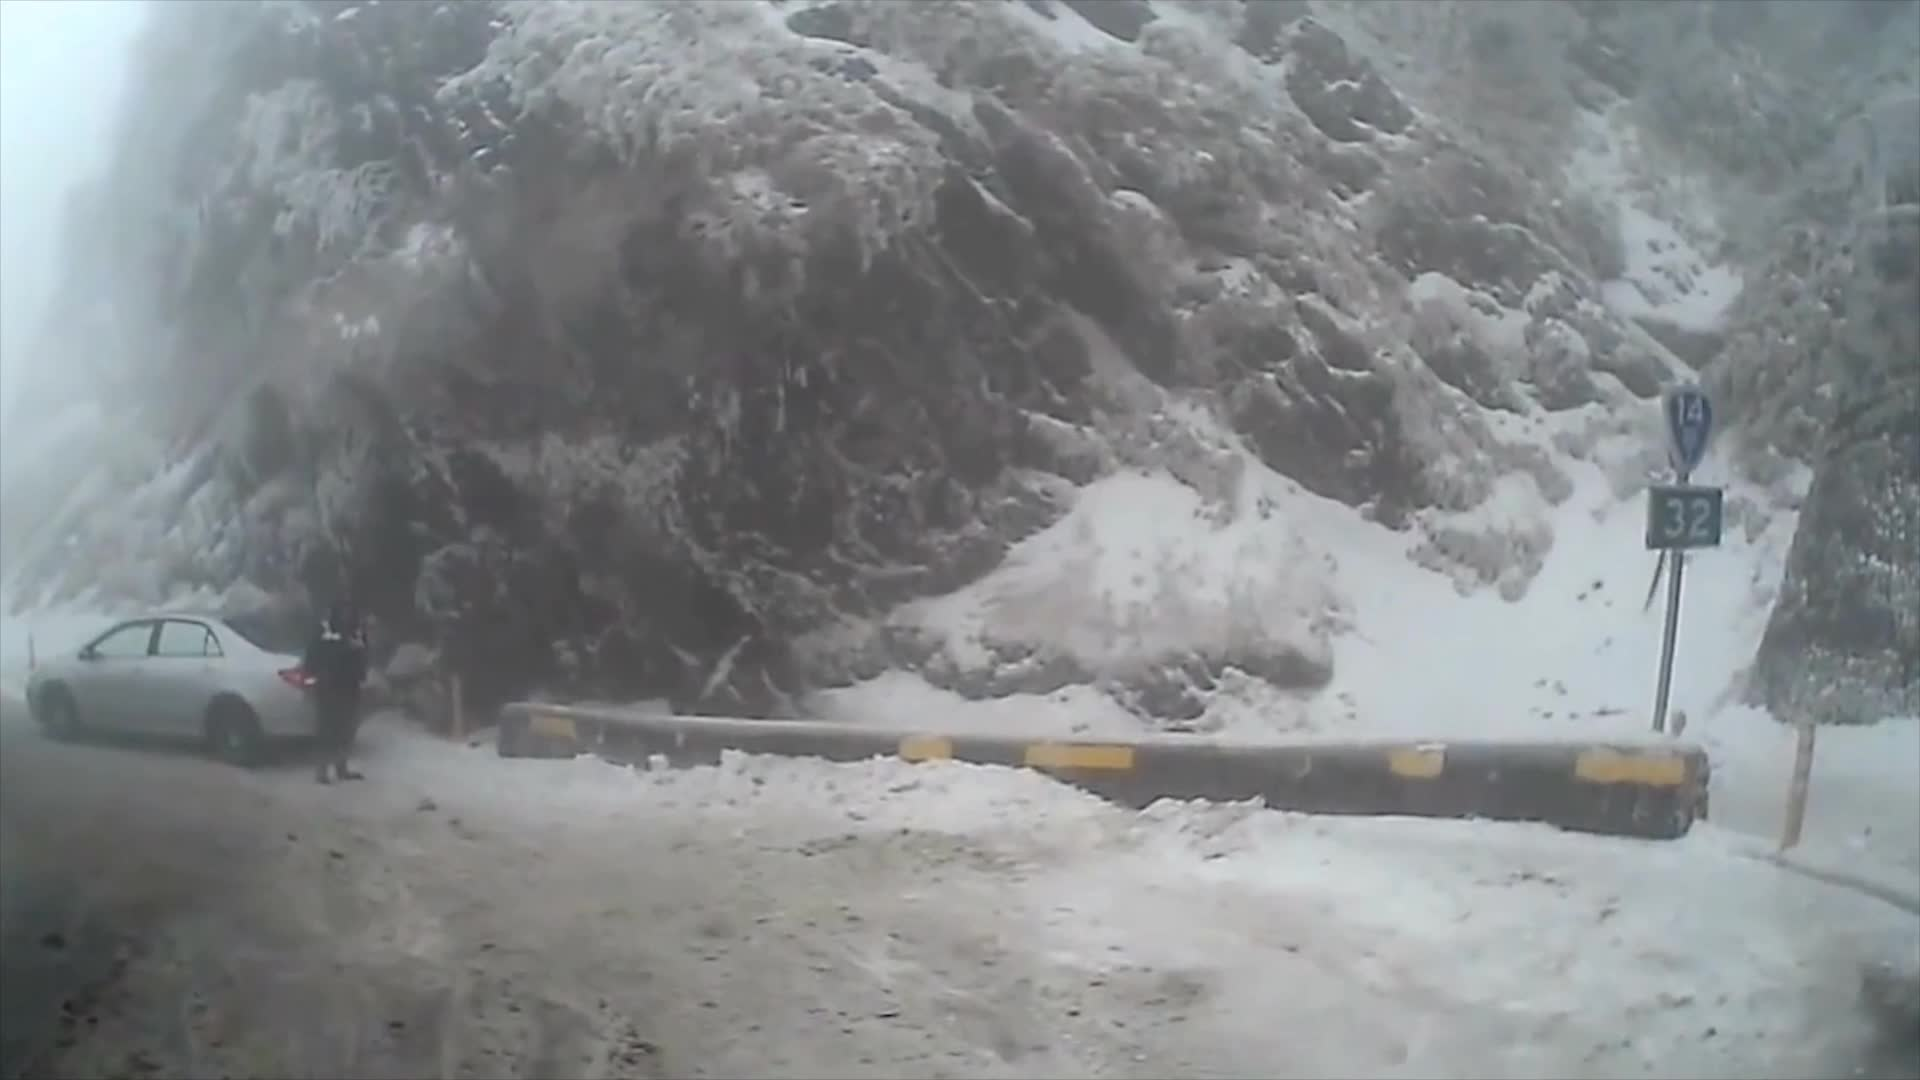pedestrian: (299, 586, 372, 781)
vehicle: (23, 603, 357, 765)
